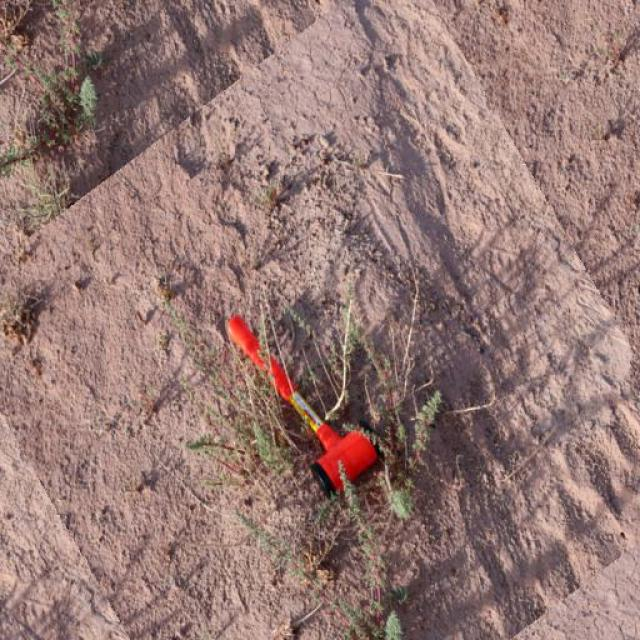mallet: (224, 312, 381, 498)
